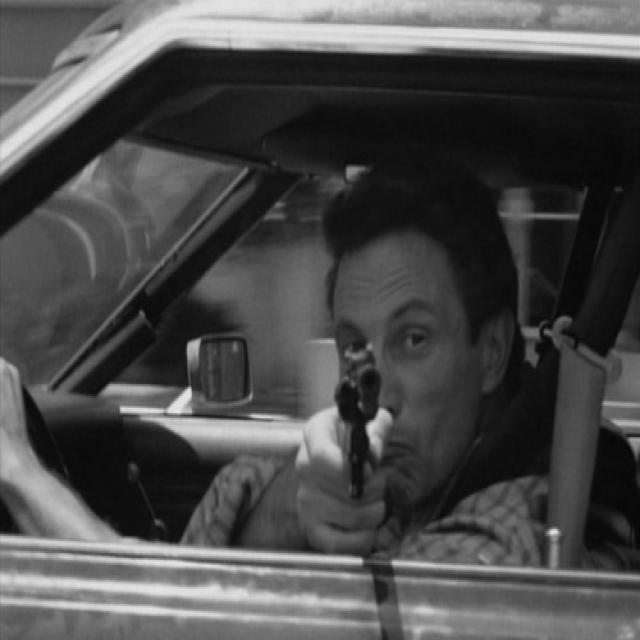weapons: (304, 326, 402, 536)
